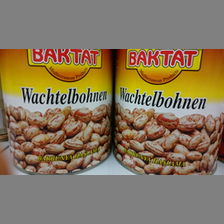beans: (1, 48, 113, 176), (116, 49, 223, 176)
